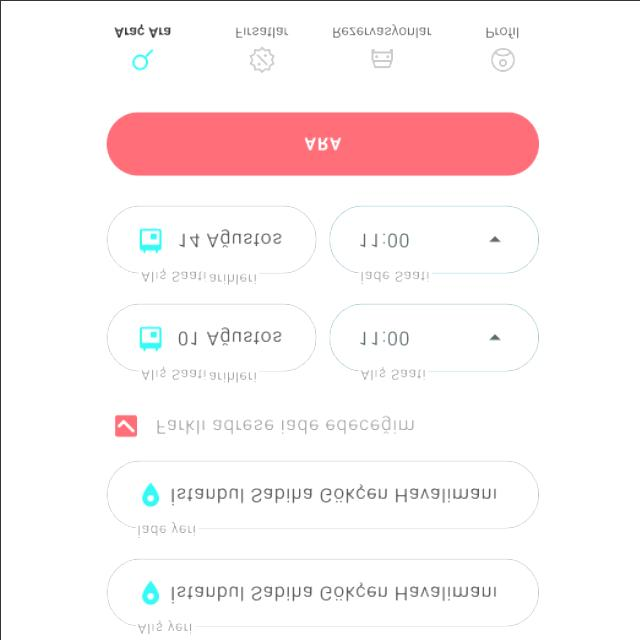QLabel: (153, 414, 415, 436), (328, 20, 434, 40), (106, 22, 176, 40), (228, 22, 292, 40), (476, 22, 524, 40), (300, 132, 342, 152)
VBottomNavigation: (81, 0, 559, 88)
VBtn: (106, 108, 538, 176)
VCheckbox: (112, 412, 138, 438)
VCombobox: (327, 203, 539, 284), (327, 302, 539, 381)
VIcon: (245, 44, 279, 74), (122, 46, 160, 72), (363, 46, 401, 72), (486, 45, 518, 73)
VTextField: (106, 457, 538, 537), (106, 556, 538, 634), (105, 202, 317, 286), (104, 302, 316, 383)
